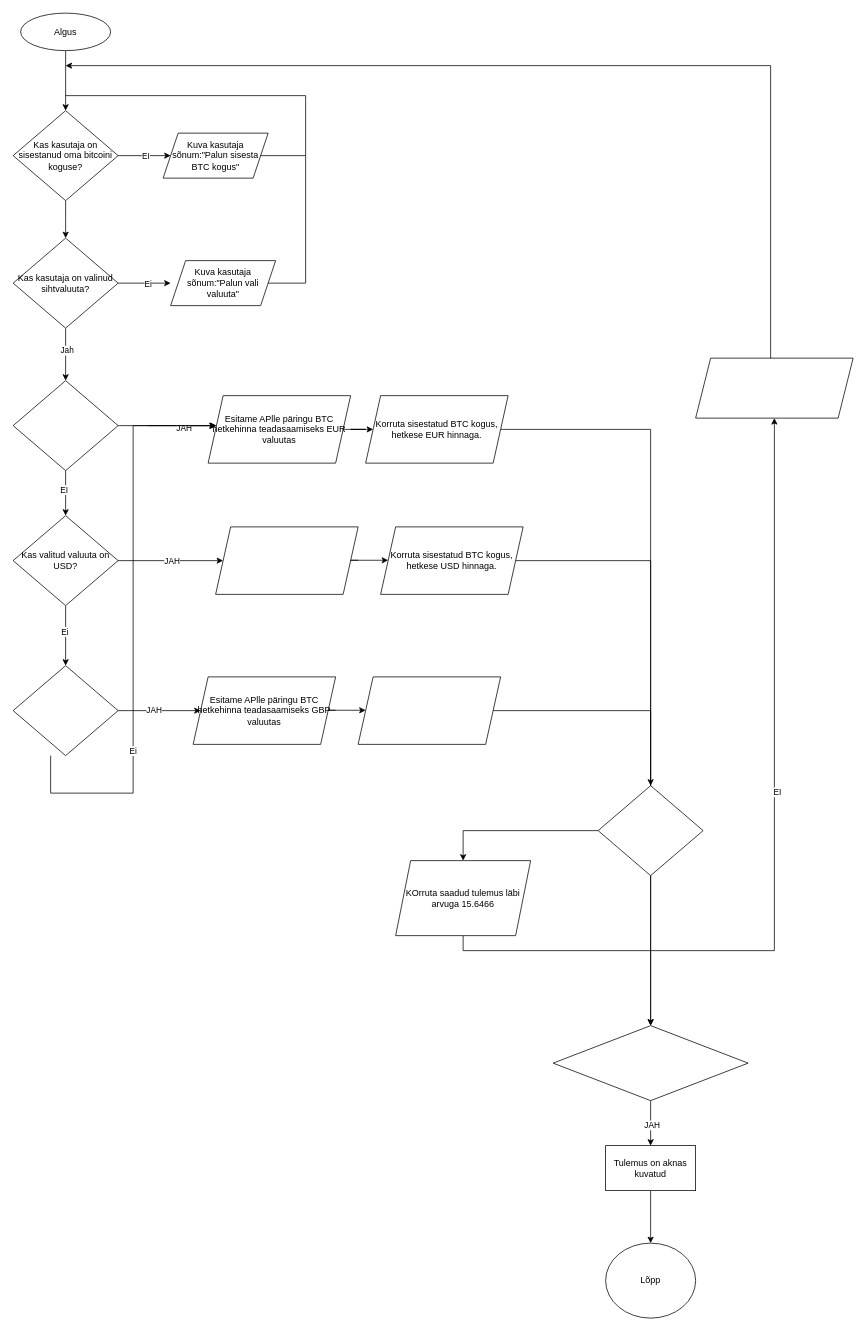
The diagram is 866 pixels wide and 1331 high, and some of its shapes have lost their labels. The centre of each missing label's shape, as x and y in pixels:
Esitame APlle päringu BTC hetkehinna teadasaamiseks USD valuutas: (x=286, y=560)
Kas arvutus teostati edukalt?: (x=650, y=1063)
Kas valitud valuuta on EK?: (x=650, y=830)
Kas valitud valuuta on EUR?: (x=65, y=425)
Kas valitud valuuta on GBP?: (x=65, y=710)
Korruta sisestatud BTC kogus, hetkese GBP hinnaga.: (x=429, y=710)
Kuva kasutaja le sõnum "Tulemuse arvutus ebaõnnestus, palun proovi uuesti": (x=774, y=387)
